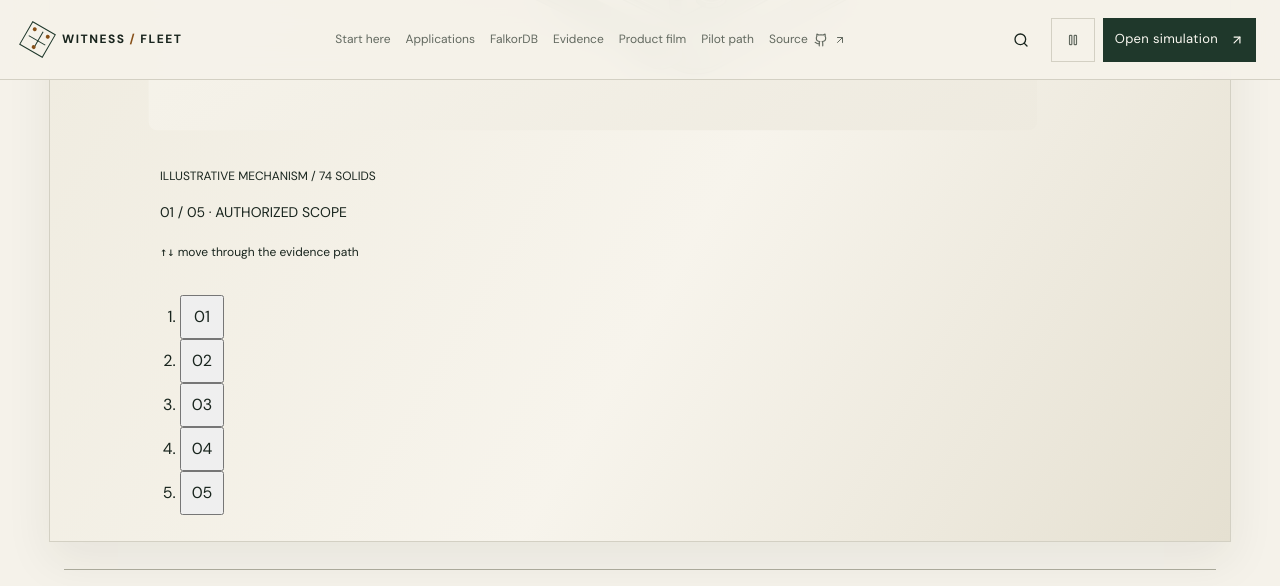
Test case: Witness Fleet launch story › explains evidence-first motion and is honest about demo release authority
This screenshot has width=1280, height=586.
(page scrolled)
Click the button named "03 Configured demo-owner release".
click(202, 405)  # box [180,383,224,427]
(page scrolled)
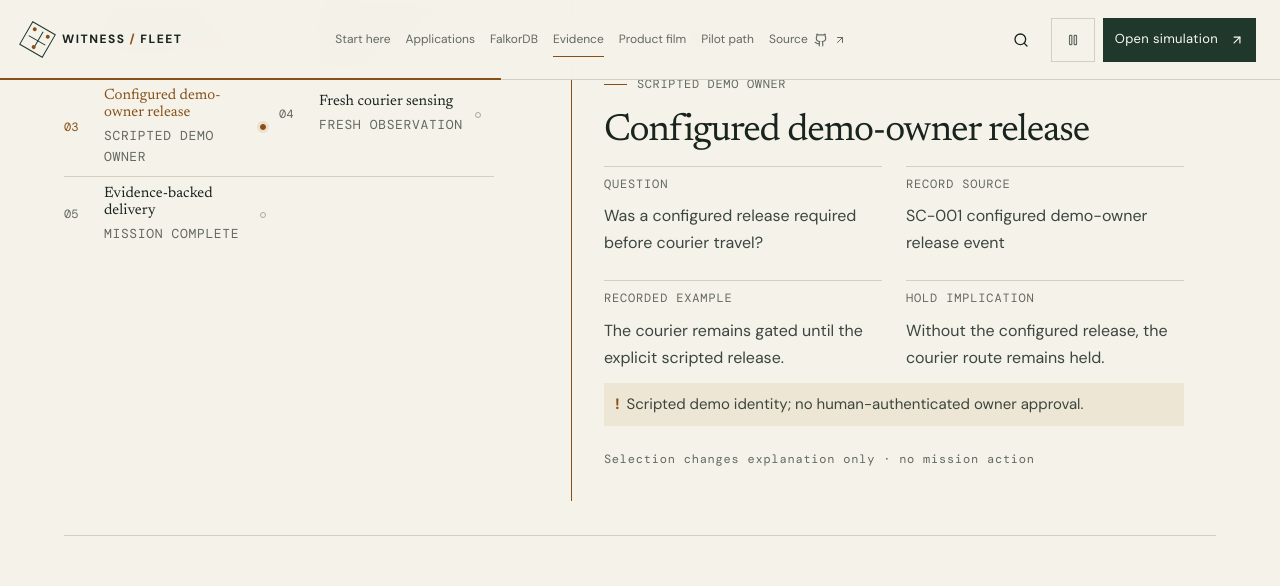
expect the text "Scripted demo identity; no human-authenticated owner approval" is shown: met, box [626,394,1083,414]
